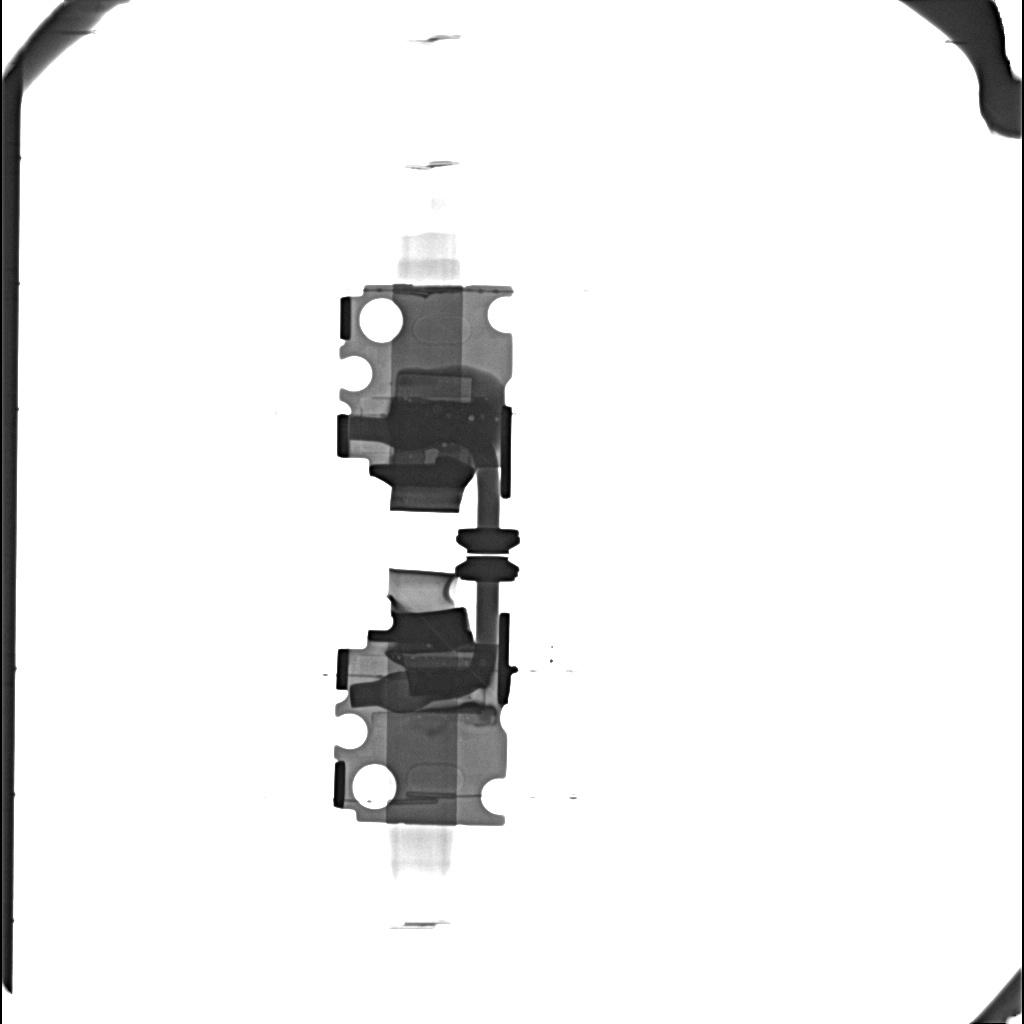defect: (390, 401, 491, 443), (394, 371, 474, 400), (407, 667, 481, 697), (425, 449, 440, 463)
